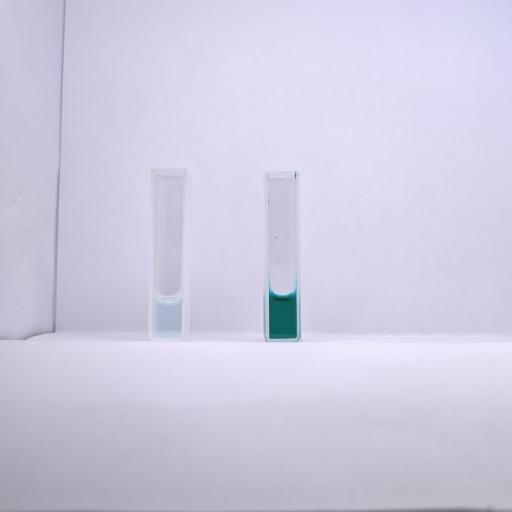cuvette: (260, 168, 304, 345), (147, 164, 189, 344)
liquid: (154, 295, 182, 338), (270, 294, 296, 338)
